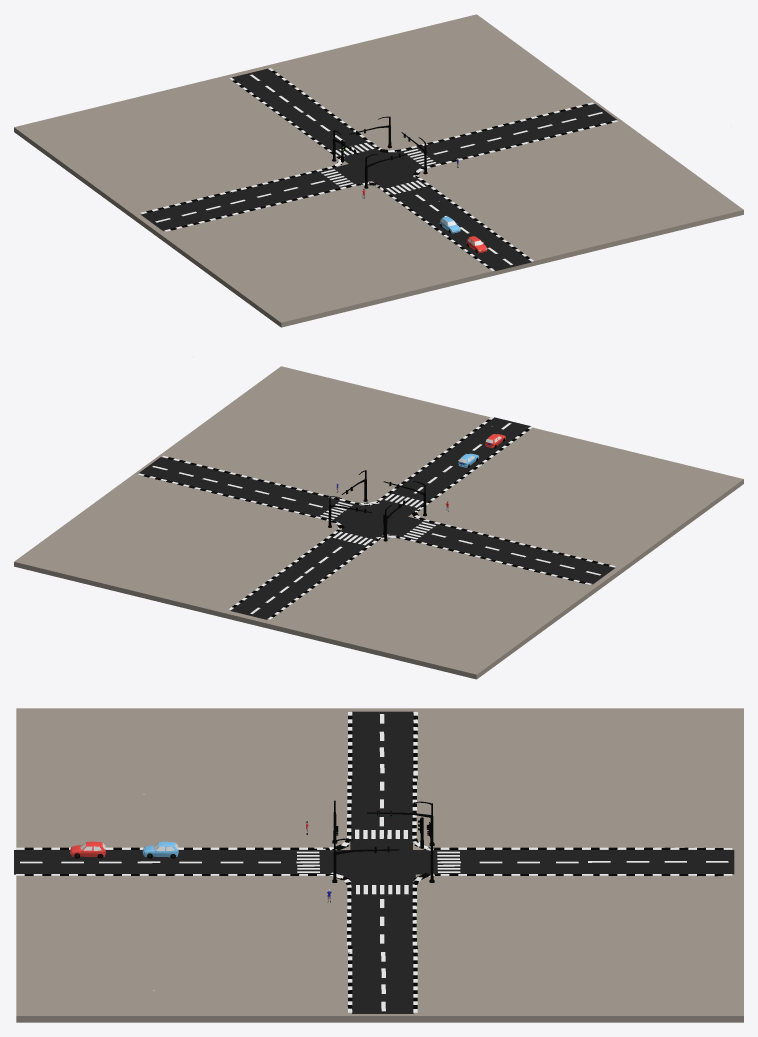
Rendered from car_animation.fbx.
3 views of the same model, one above another, from view 1: azimuth 30°, elevation 25°; view 2: azimuth 150°, elevation 25°; view 3: azimuth 270°, elevation 25° (orthographic). The views are drawn at different scales.
Parts seen in each view (by area): view 1: Ground, Plane.001, Plane.003, Plane.002, Plane.331, Plane.332, Plane.328, Plane.086, Plane.329, Plane.333; view 2: Ground, Plane.001, Plane.003, Plane.331, Plane.002, Plane.332, Plane.328, Plane.329, Plane.086, Plane.333; view 3: Ground, Plane.001, Plane.003, Plane.002, Plane.331, Plane.332, Plane.328, Plane.086, Plane.329, Plane.333.
Part boxes in pixels (bbox=[...]): Ground: bbox=[14, 14, 743, 327]; Plane.001: bbox=[140, 188, 270, 231]; Plane.003: bbox=[488, 102, 617, 145]; Plane.002: bbox=[229, 68, 329, 120]; Plane.331: bbox=[375, 130, 514, 174]; Plane.332: bbox=[242, 164, 371, 205]; Plane.328: bbox=[375, 178, 473, 228]; Plane.086: bbox=[438, 219, 531, 270]; Plane.329: bbox=[287, 114, 382, 157]; Plane.333: bbox=[340, 153, 416, 182]; Ground: bbox=[14, 366, 743, 679]; Plane.001: bbox=[489, 541, 615, 585]; Plane.003: bbox=[138, 456, 264, 499]; Plane.331: bbox=[241, 482, 381, 527]; Plane.002: bbox=[228, 565, 327, 619]; Plane.332: bbox=[387, 516, 512, 559]; Plane.328: bbox=[379, 460, 471, 514]; Plane.329: bbox=[293, 526, 374, 578]; Plane.086: bbox=[436, 417, 530, 468]; Plane.333: bbox=[346, 502, 409, 539]; Ground: bbox=[16, 708, 743, 1022]; Plane.001: bbox=[348, 711, 417, 783]; Plane.003: bbox=[347, 942, 417, 1013]; Plane.002: bbox=[564, 847, 734, 876]; Plane.331: bbox=[348, 867, 415, 945]; Plane.332: bbox=[350, 778, 412, 849]; Plane.328: bbox=[173, 850, 343, 874]; Plane.086: bbox=[14, 850, 173, 874]; Plane.329: bbox=[419, 850, 582, 874]; Plane.333: bbox=[328, 850, 437, 874].
Bounding box in the file's own units: 10822 × 866 × 10032.
